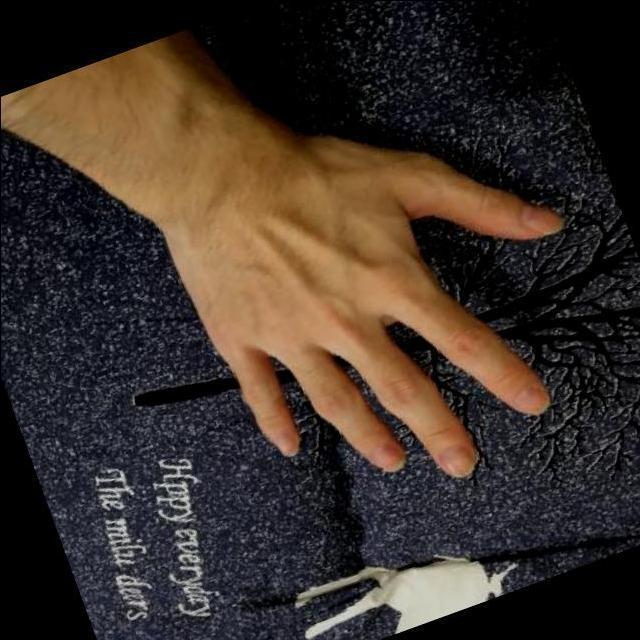hand: (0, 25, 587, 488)
